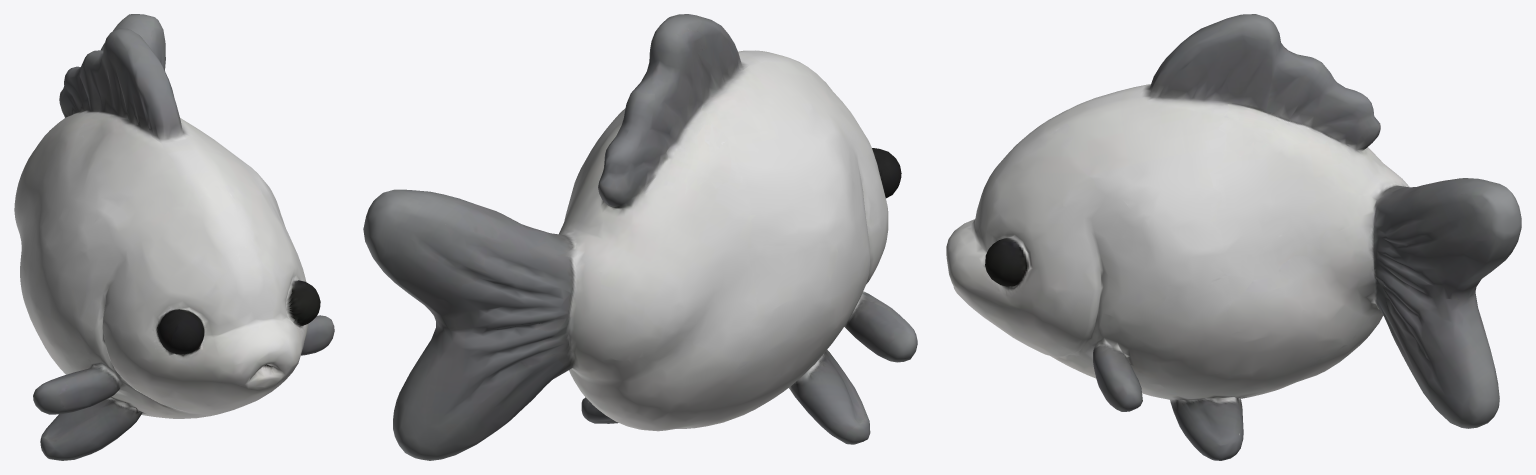
Rendered from pet-goldfish.glb.
The picture shows the model from 3 angles, left to right: view 1: azimuth 30°, elevation 25°; view 2: azimuth 150°, elevation 25°; view 3: azimuth 270°, elevation 25°; orthographic projection. The views are drawn at different scales.
Visible parts, largest first — view 1: tripo_node_ca96b350-f42b-40d3-bd75-10d7c9f1edce; view 2: tripo_node_ca96b350-f42b-40d3-bd75-10d7c9f1edce; view 3: tripo_node_ca96b350-f42b-40d3-bd75-10d7c9f1edce.
Boxes of the visible parts, x1=… form: tripo_node_ca96b350-f42b-40d3-bd75-10d7c9f1edce: x1=14, y1=14, x2=334, y2=460; tripo_node_ca96b350-f42b-40d3-bd75-10d7c9f1edce: x1=363, y1=14, x2=917, y2=460; tripo_node_ca96b350-f42b-40d3-bd75-10d7c9f1edce: x1=946, y1=14, x2=1521, y2=460.
Bounding box in the file's own units: 0.6428 × 0.7727 × 1.
Materials: 1 (1 with a texture image).
